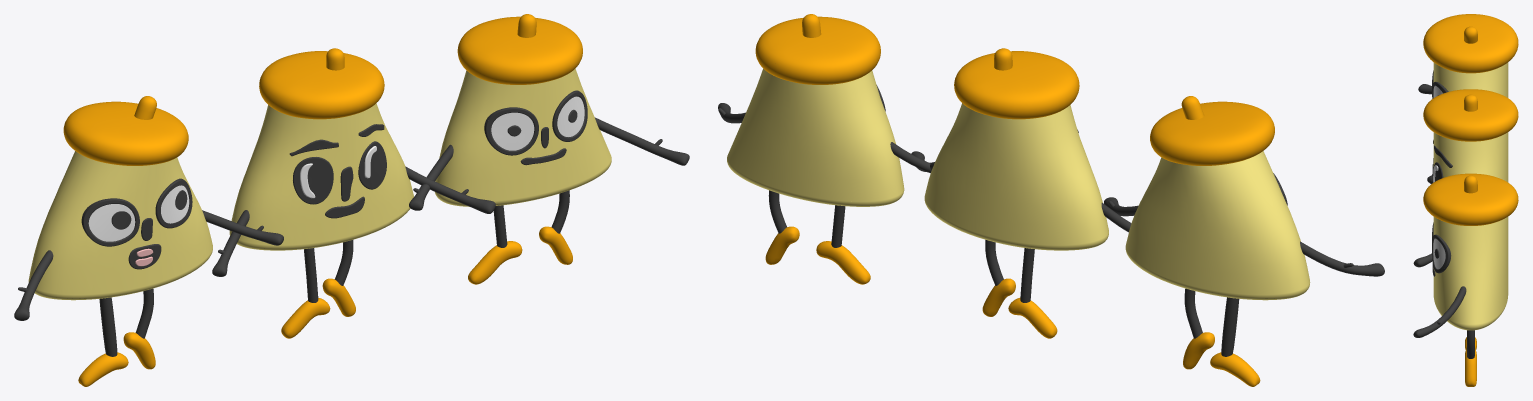
The picture shows the model from 3 angles, left to right: view 1: azimuth 30°, elevation 25°; view 2: azimuth 150°, elevation 25°; view 3: azimuth 270°, elevation 25°; orthographic projection. The views are drawn at different scales.
Visible parts, largest first — view 1: 025_polinkey; view 2: 025_polinkey; view 3: 025_polinkey.
Boxes of the visible parts, x1,y1,x2,y2 form: 025_polinkey: (14,14,689,386); 025_polinkey: (718,14,1384,386); 025_polinkey: (1413,14,1518,386).
Size of the model in its own units: 0.1846 by 0.0729 by 0.033.
